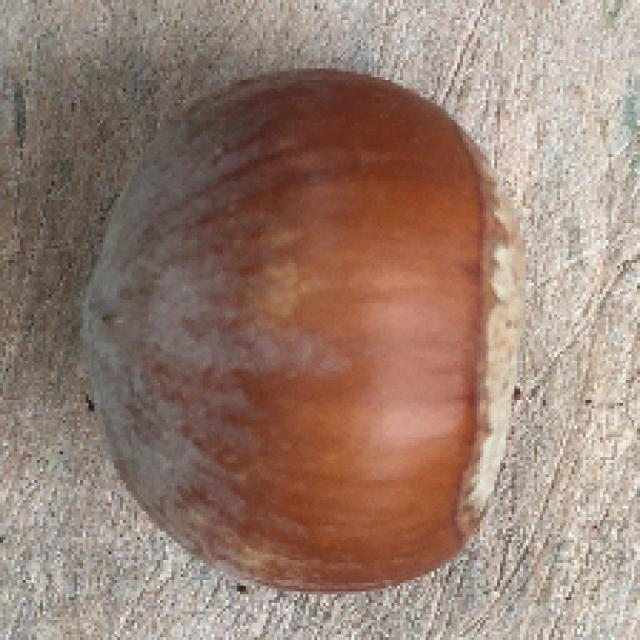QualityHazelnut: (77, 70, 526, 592)
